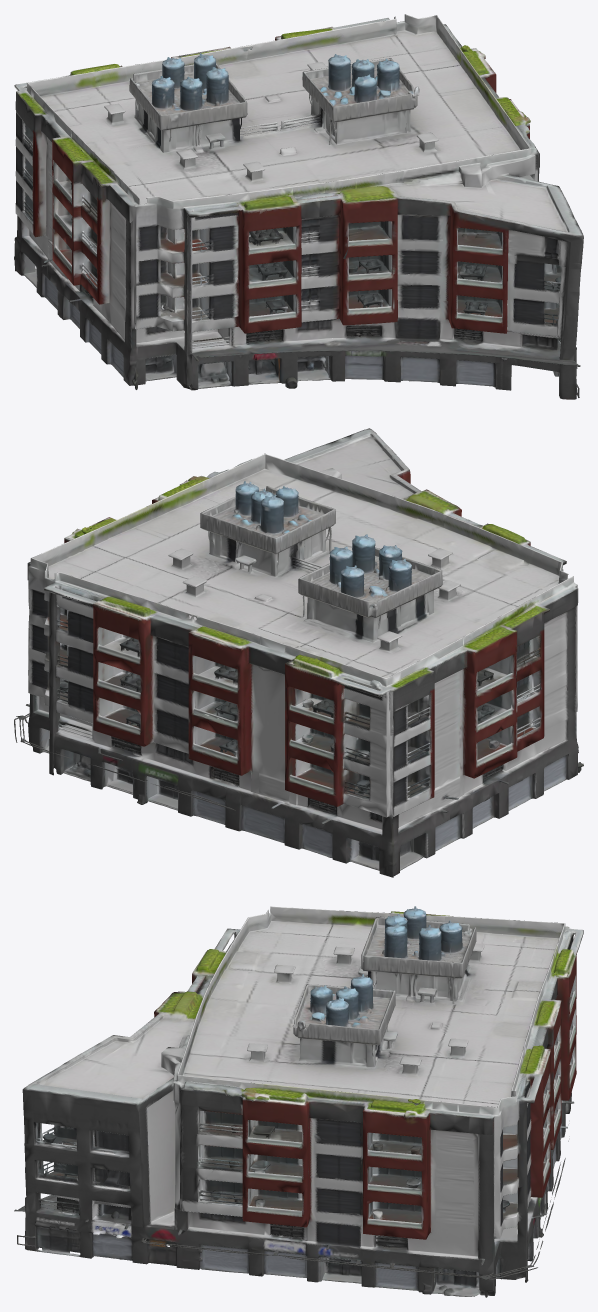
File: residence-r-plus-4.glb
3 views of the same model, one above another, from view 1: azimuth 30°, elevation 25°; view 2: azimuth 150°, elevation 25°; view 3: azimuth 270°, elevation 25° (orthographic). The views are drawn at different scales.
Parts seen in each view (by area): view 1: tripo_node_afeaf93b-5475-4d73-a064-9c486c13e389; view 2: tripo_node_afeaf93b-5475-4d73-a064-9c486c13e389; view 3: tripo_node_afeaf93b-5475-4d73-a064-9c486c13e389.
Part boxes in pixels (x1,y1,x2,y2): tripo_node_afeaf93b-5475-4d73-a064-9c486c13e389: [14, 14, 583, 399]; tripo_node_afeaf93b-5475-4d73-a064-9c486c13e389: [14, 428, 583, 877]; tripo_node_afeaf93b-5475-4d73-a064-9c486c13e389: [14, 906, 583, 1297].
Size of the model in its own units: 47.73 by 25 by 53.49.
Materials: 1 (1 with a texture image).
